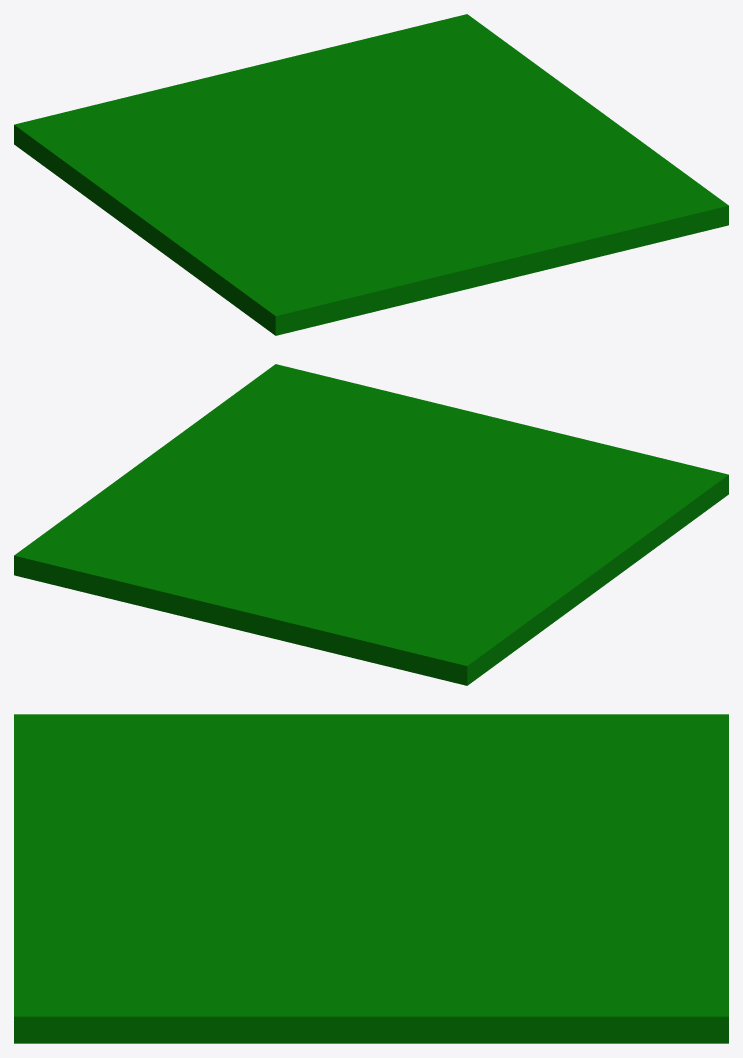
File: Grass_Tile_Block.fbx
3 views of the same model, one above another, from view 1: azimuth 30°, elevation 25°; view 2: azimuth 150°, elevation 25°; view 3: azimuth 270°, elevation 25° (orthographic). The views are drawn at different scales.
Parts seen in each view (by area): view 1: Grass_Tile_Block; view 2: Grass_Tile_Block; view 3: Grass_Tile_Block.
Part boxes in pixels (x1,y1,x2,y2): Grass_Tile_Block: (14,14,728,335); Grass_Tile_Block: (14,364,728,685); Grass_Tile_Block: (14,714,728,1043).
Bounding box in the file's own units: 48 × 2 × 48.
